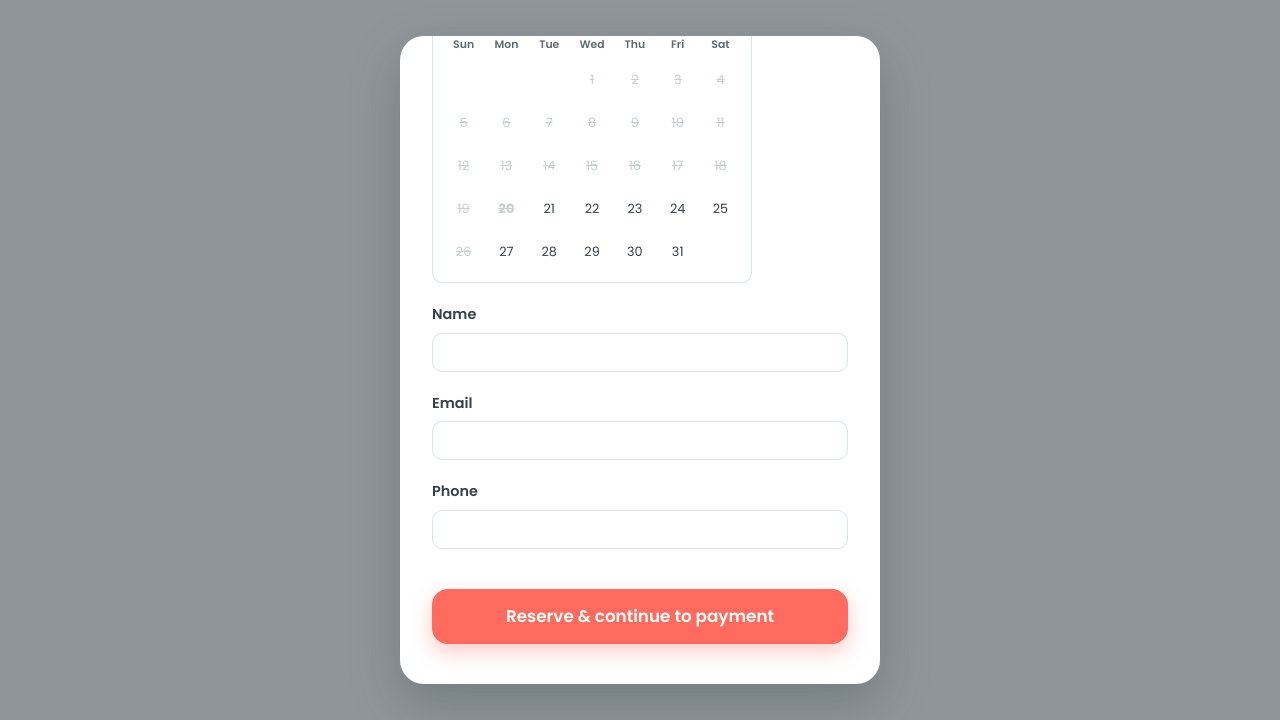
Test: BookingModal › shows validation errors when submitting an empty form
(page scrolled)
Click the button "Reserve & continue to payment" at (640, 616), box top-left (432, 589), bottom-right (848, 644)
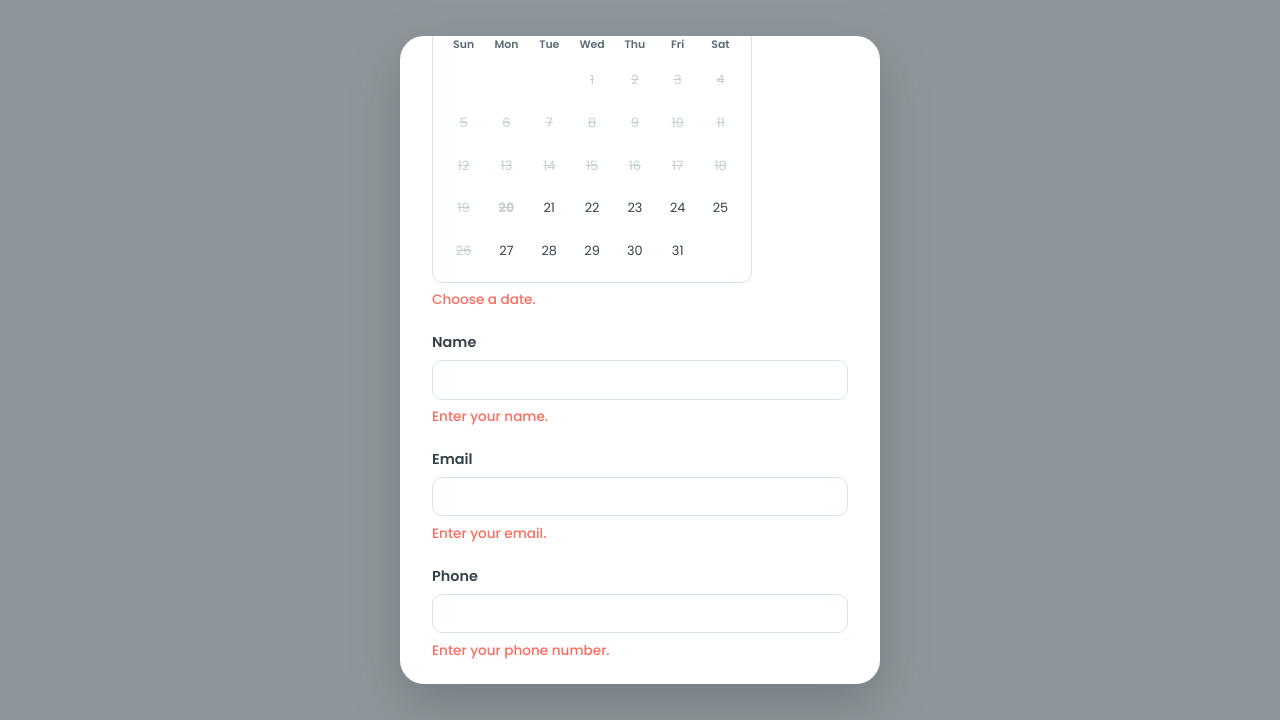
Expected: the text "Choose a date." is shown, top-left (432, 290), bottom-right (536, 309)
Expected: the text "Enter your name." is shown, top-left (432, 407), bottom-right (548, 426)
Expected: the text "Enter your email." is shown, top-left (432, 524), bottom-right (546, 543)
